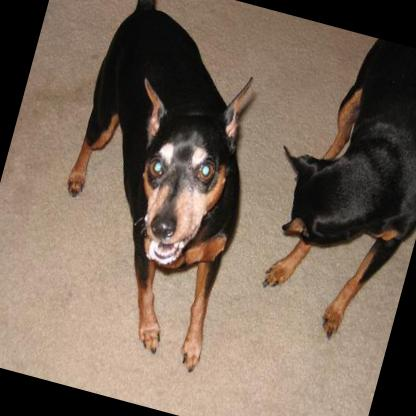miniature_pinscher: (26, 0, 293, 375), (235, 21, 416, 354)
